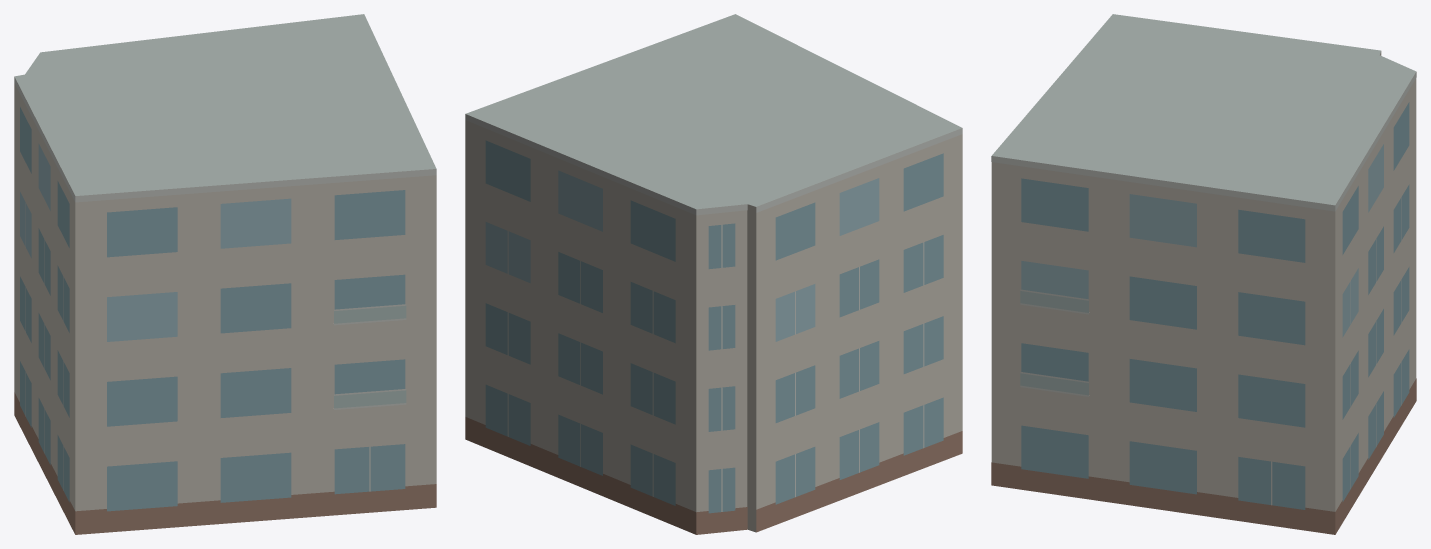
File: survey-upis-32827558.glb
The picture shows the model from 3 angles, left to right: view 1: azimuth 30°, elevation 25°; view 2: azimuth 150°, elevation 25°; view 3: azimuth 270°, elevation 25°; orthographic projection. The views are drawn at different scales.
Visible parts, largest first — view 1: survey-upis-32827558.tmp; view 2: survey-upis-32827558.tmp; view 3: survey-upis-32827558.tmp.
Boxes of the visible parts, x1,y1,x2,y2 form: survey-upis-32827558.tmp: [14, 14, 436, 534]; survey-upis-32827558.tmp: [465, 14, 962, 534]; survey-upis-32827558.tmp: [991, 14, 1416, 534].
Size of the model in its own units: 16.33 by 13.1 by 15.32.
